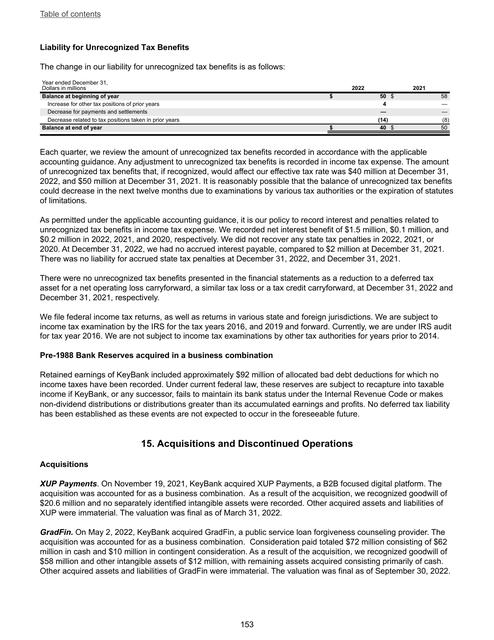box: (39, 77, 452, 137)
